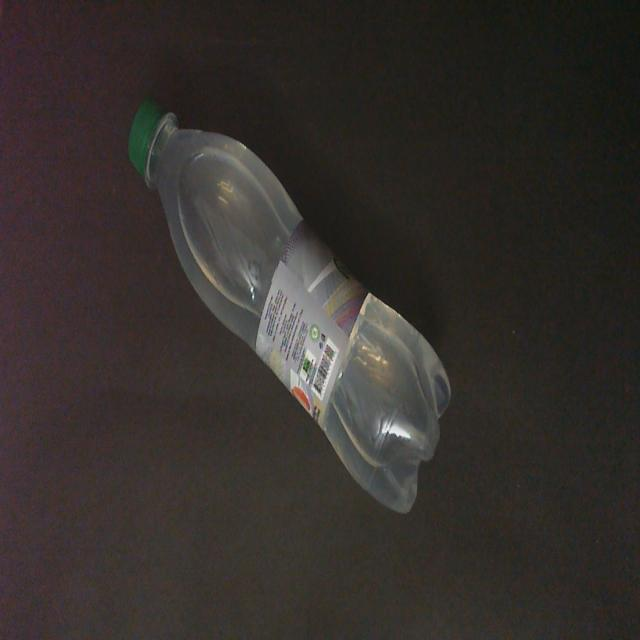non-defect: (126, 90, 452, 517)
